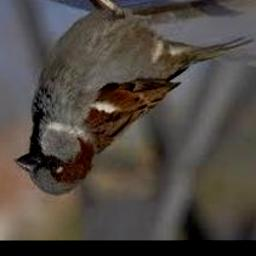Sparrow: (13, 0, 252, 197)
